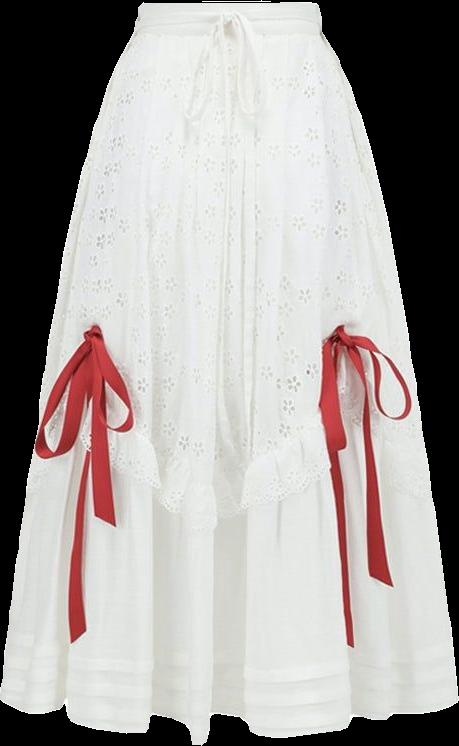Hemline: (0, 693, 458, 745)
Waistline: (128, 0, 321, 41)
